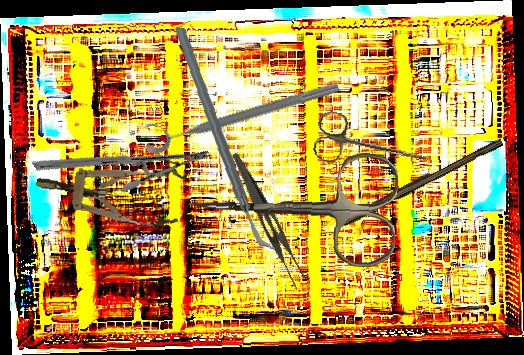Chopper: (163, 27, 287, 251)
Dressing Forceps: (218, 152, 314, 291)
Fixation Ring: (139, 66, 342, 156)
Iris Scissors: (185, 144, 400, 270), (311, 109, 435, 182)
Needle Holder: (31, 78, 213, 242)
Scalpel Handle: (339, 133, 504, 230)
Speculum: (32, 151, 189, 230)
